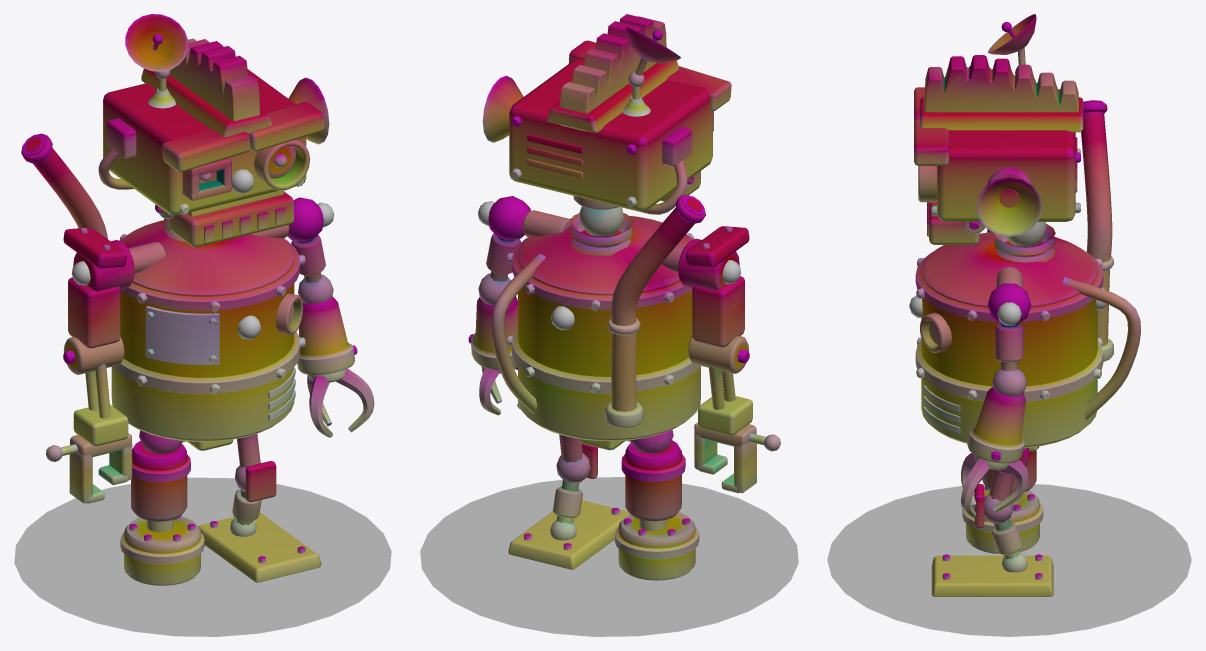
Rendered from husk_robot.glb.
The picture shows the model from 3 angles, left to right: view 1: azimuth 30°, elevation 25°; view 2: azimuth 150°, elevation 25°; view 3: azimuth 270°, elevation 25°; orthographic projection. The views are drawn at different scales.
Visible parts, largest first — view 1: shadow, torso_body, skull_body, drum_leg_body, piston_leg_body, torso_detail, torso_trim, clamp_arm_body, crest_detail, clamp_arm_trim, skull_detail, claw_arm_body (+15 smaller); view 2: shadow, torso_body, skull_body, torso_trim, drum_leg_body, crest_detail, clamp_arm_body, piston_leg_body, clamp_arm_trim, clamp_arm_detail, skull_detail, claw_arm_trim (+11 smaller); view 3: shadow, torso_body, skull_body, torso_trim, crest_detail, piston_leg_body, skull_detail, claw_arm_trim, claw_arm_body, crest_trim, drum_leg_body, piston_leg_trim (+7 smaller).
Part boxes in pixels (x1=…): shadow: x1=14, y1=477, x2=391, y2=636; torso_body: x1=63, y1=220, x2=299, y2=441; skull_body: x1=103, y1=69, x2=306, y2=215; drum_leg_body: x1=120, y1=441, x2=204, y2=585; piston_leg_body: x1=198, y1=461, x2=321, y2=582; torso_detail: x1=21, y1=133, x2=305, y2=394; torso_trim: x1=23, y1=134, x2=303, y2=450; clamp_arm_body: x1=68, y1=277, x2=128, y2=446; crest_detail: x1=170, y1=38, x2=259, y2=121; clamp_arm_trim: x1=60, y1=240, x2=134, y2=455; skull_detail: x1=106, y1=77, x2=329, y2=214; claw_arm_body: x1=297, y1=296, x2=354, y2=374; shadow: x1=420, y1=477, x2=798, y2=636; torso_body: x1=512, y1=216, x2=749, y2=441; skull_body: x1=509, y1=59, x2=712, y2=211; torso_trim: x1=491, y1=195, x2=704, y2=450; drum_leg_body: x1=614, y1=440, x2=699, y2=580; crest_detail: x1=560, y1=14, x2=666, y2=131; clamp_arm_body: x1=692, y1=276, x2=752, y2=435; piston_leg_body: x1=508, y1=443, x2=629, y2=569; clamp_arm_trim: x1=678, y1=238, x2=765, y2=445; clamp_arm_detail: x1=694, y1=349, x2=780, y2=493; skull_detail: x1=482, y1=75, x2=692, y2=207; claw_arm_trim: x1=478, y1=196, x2=530, y2=373; shadow: x1=827, y1=484, x2=1191, y2=636; torso_body: x1=915, y1=232, x2=1103, y2=448; skull_body: x1=937, y1=89, x2=1075, y2=221; torso_trim: x1=919, y1=100, x2=1140, y2=451; crest_detail: x1=924, y1=55, x2=1078, y2=112; piston_leg_body: x1=931, y1=484, x2=1053, y2=596; skull_detail: x1=918, y1=148, x2=1080, y2=236; claw_arm_trim: x1=974, y1=283, x2=1031, y2=469; claw_arm_body: x1=967, y1=387, x2=1025, y2=463; crest_trim: x1=920, y1=97, x2=1083, y2=132; drum_leg_body: x1=962, y1=446, x2=1043, y2=553; piston_leg_trim: x1=984, y1=447, x2=1028, y2=572.
Bounding box in the file's own units: 0.828 × 1.32 × 0.828.
